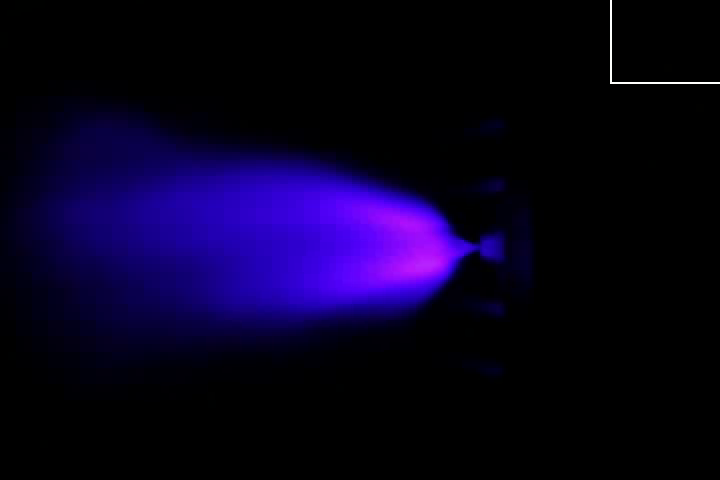burner cap: (475, 230, 510, 259)
unstable: (320, 177, 483, 314)
